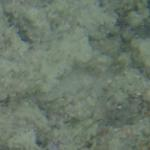dead: (3, 1, 146, 147)
